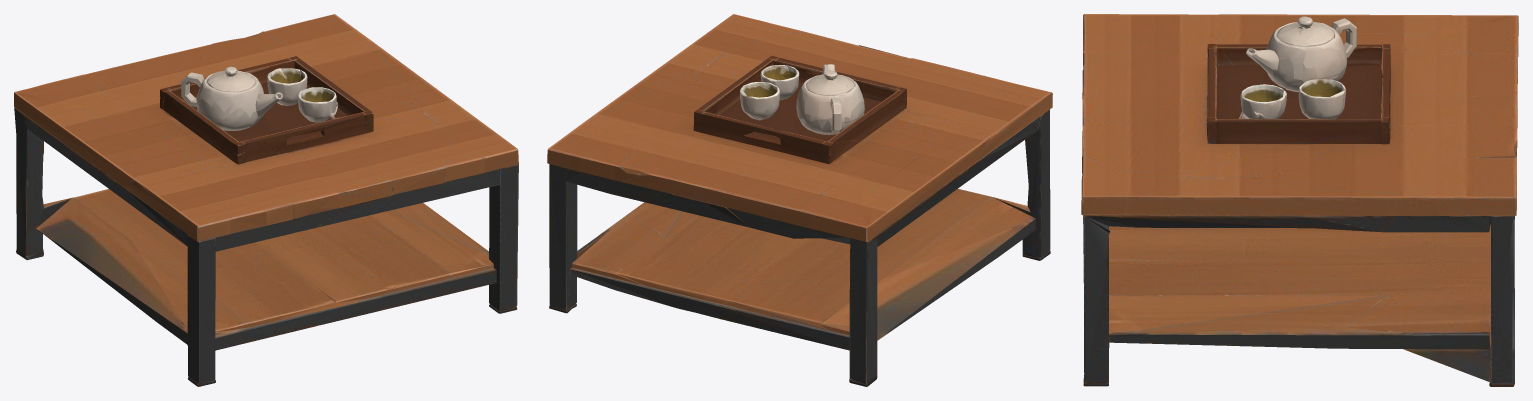
File: teaTable.glb
3 renders of one model, left to right at view 1: azimuth 30°, elevation 25°; view 2: azimuth 150°, elevation 25°; view 3: azimuth 270°, elevation 25°, orthographic. The views are drawn at different scales.
Parts seen in each view (by area): view 1: Mesh_0; view 2: Mesh_0; view 3: Mesh_0.
Part boxes in pixels (x1,y1,x2,y2): Mesh_0: (14,14,518,386); Mesh_0: (547,14,1052,386); Mesh_0: (1081,14,1518,386).
Size of the model in its own units: 0.6164 by 0.4 by 0.6152.
1 material, 1 textured.
